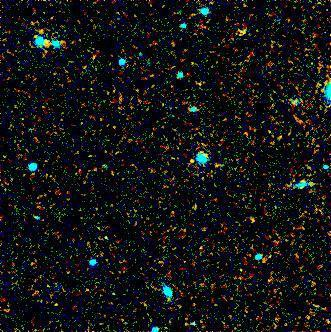star: (178, 147, 208, 177)
